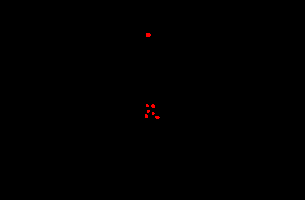Target: (146, 33, 151, 37), (151, 104, 155, 108), (155, 116, 160, 119), (145, 114, 148, 118), (146, 104, 149, 107), (147, 110, 150, 113), (152, 112, 155, 115)
